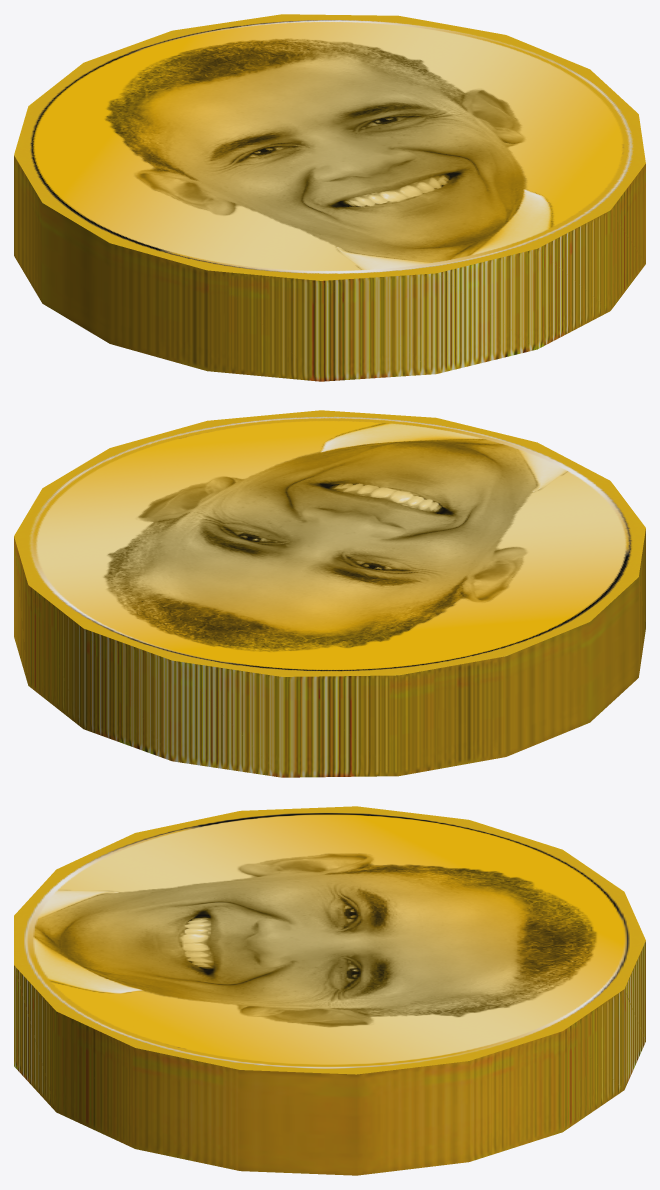
Rendered from obamaCoin1.fbx.
The picture shows the model from 3 angles, top to bottom: view 1: azimuth 30°, elevation 25°; view 2: azimuth 150°, elevation 25°; view 3: azimuth 270°, elevation 25°; orthographic projection.
Parts seen in each view (by area): view 1: Cylinder; view 2: Cylinder; view 3: Cylinder.
Boxes of the visible parts, x1,y1,x2,y2 form: Cylinder: (14,14,645,381); Cylinder: (14,410,645,777); Cylinder: (14,806,645,1175).
Bounding box in the file's own units: 199 × 35.01 × 198.
